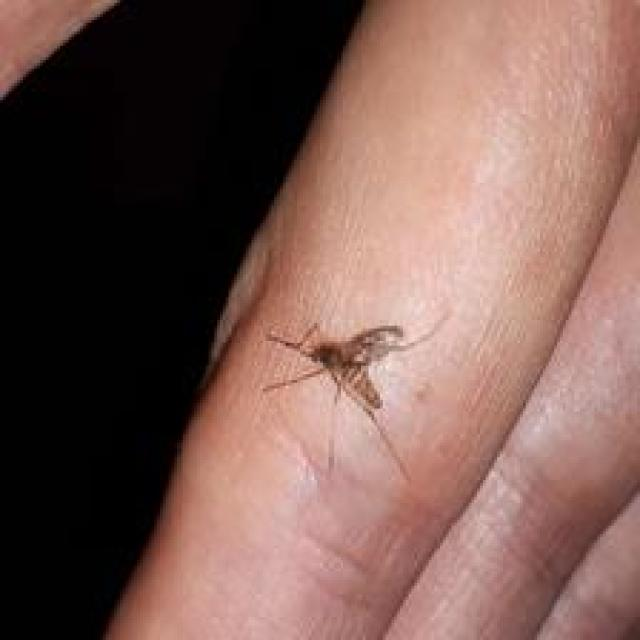Culex: (260, 317, 440, 483)
